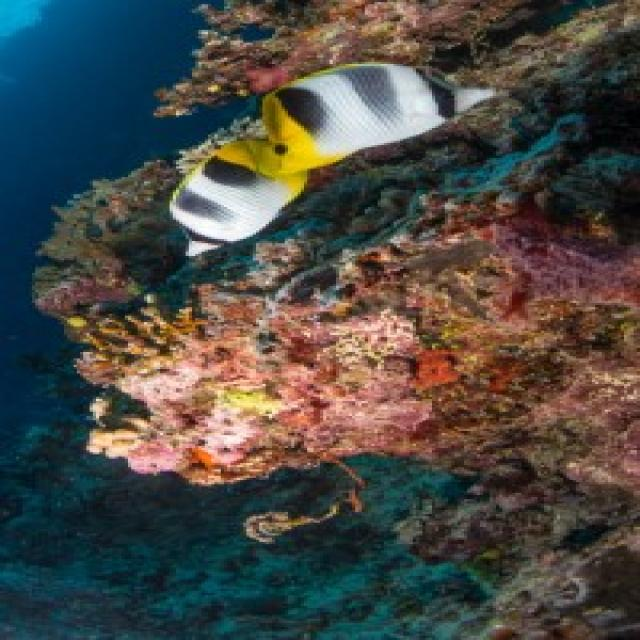Healthy: (78, 300, 411, 481), (155, 1, 638, 116), (385, 349, 638, 492), (407, 195, 638, 319), (33, 159, 180, 317)
